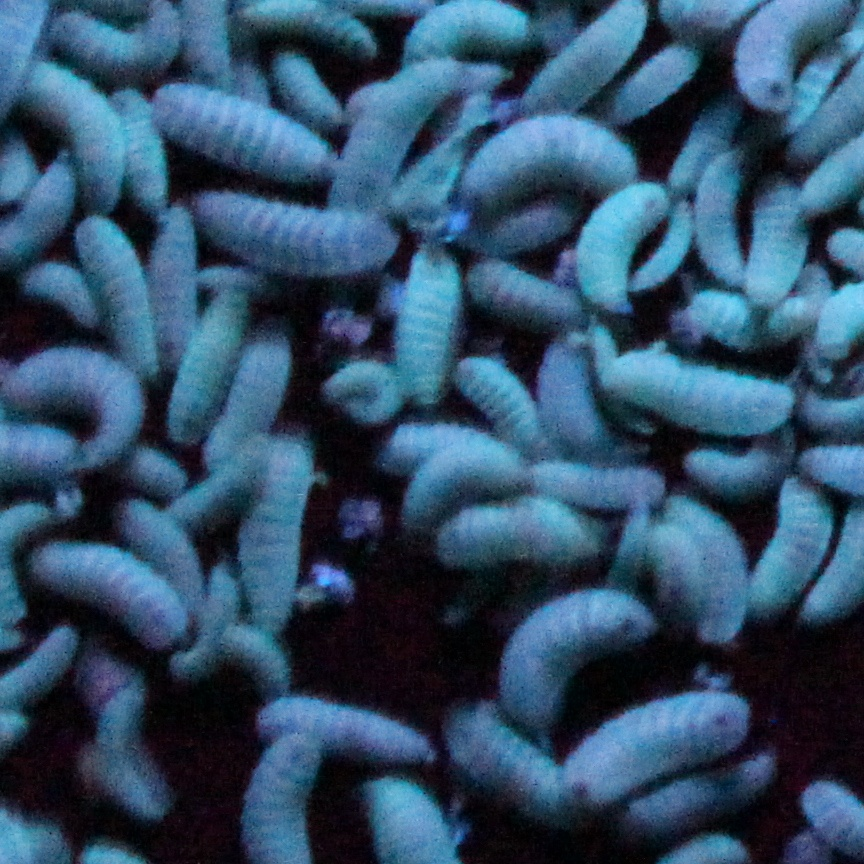larve: (501, 589, 656, 713), (156, 79, 327, 179), (334, 60, 458, 197), (573, 695, 745, 790), (11, 348, 137, 472), (38, 541, 183, 646), (203, 194, 395, 271), (528, 0, 653, 118), (242, 436, 317, 632), (26, 51, 119, 209), (607, 349, 788, 429), (534, 339, 638, 464), (665, 494, 746, 643), (433, 498, 600, 570), (260, 694, 439, 760), (458, 706, 567, 813), (460, 120, 644, 182), (172, 286, 241, 446), (754, 466, 827, 614), (461, 345, 556, 458), (402, 439, 526, 525), (79, 217, 154, 356), (578, 191, 667, 308), (98, 662, 161, 823), (203, 333, 285, 455), (399, 245, 456, 406), (117, 504, 203, 607), (626, 758, 770, 815), (148, 210, 196, 367), (173, 562, 240, 674), (686, 433, 806, 491), (695, 147, 744, 284), (749, 181, 804, 301), (473, 264, 584, 323), (617, 38, 701, 113), (665, 98, 741, 179), (453, 204, 581, 251), (525, 463, 663, 505), (171, 454, 249, 527), (121, 85, 165, 212), (322, 358, 398, 420), (23, 258, 93, 323), (647, 520, 695, 613), (688, 293, 761, 353), (636, 205, 691, 284), (221, 630, 291, 691), (277, 58, 336, 129), (623, 497, 648, 578)
